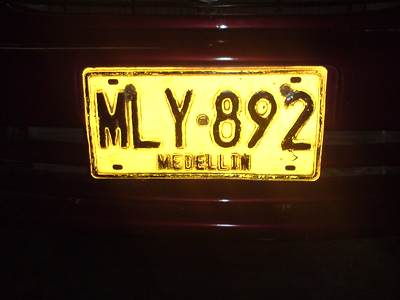placa_carro: (76, 58, 339, 195)
